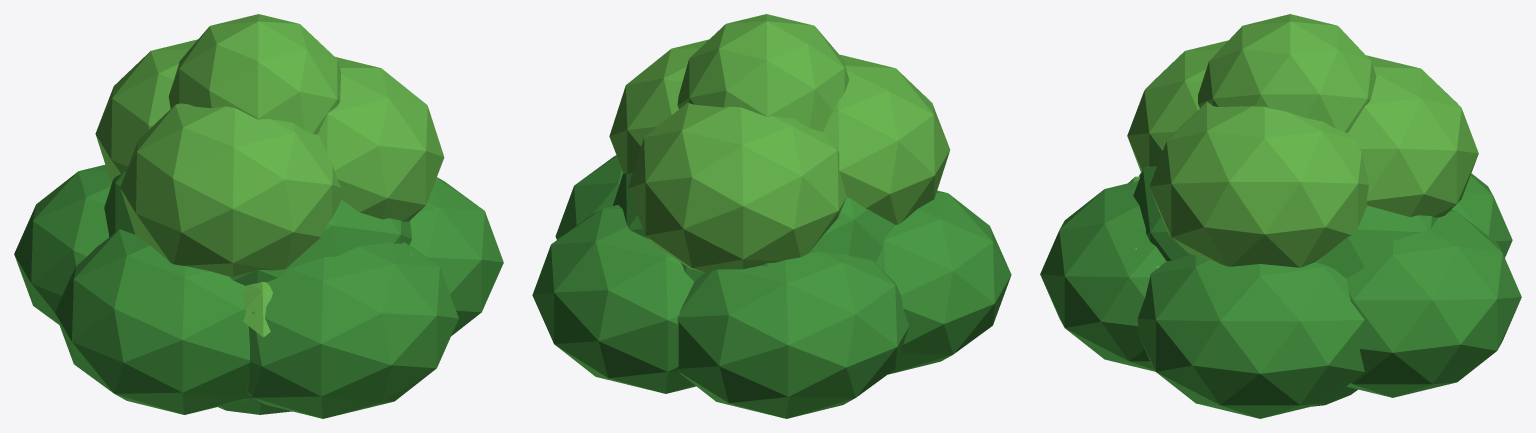
File: FernLeaves.obj
3 views of the same model, side by side, from view 1: azimuth 30°, elevation 25°; view 2: azimuth 150°, elevation 25°; view 3: azimuth 270°, elevation 25° (orthographic).
Visible parts, largest first — view 1: FernLeaves_FernGreen, FernLeaves_FernTips; view 2: FernLeaves_FernGreen, FernLeaves_FernTips; view 3: FernLeaves_FernGreen, FernLeaves_FernTips.
Boxes of the visible parts, <box> form: FernLeaves_FernGreen: <box>14,165,503,418</box>; FernLeaves_FernTips: <box>95,14,444,337</box>; FernLeaves_FernGreen: <box>532,155,1011,418</box>; FernLeaves_FernTips: <box>609,14,950,272</box>; FernLeaves_FernGreen: <box>1040,166,1521,418</box>; FernLeaves_FernTips: <box>1127,14,1478,268</box>.
Size of the model in its own units: 3.4 by 2.8 by 3.4.
